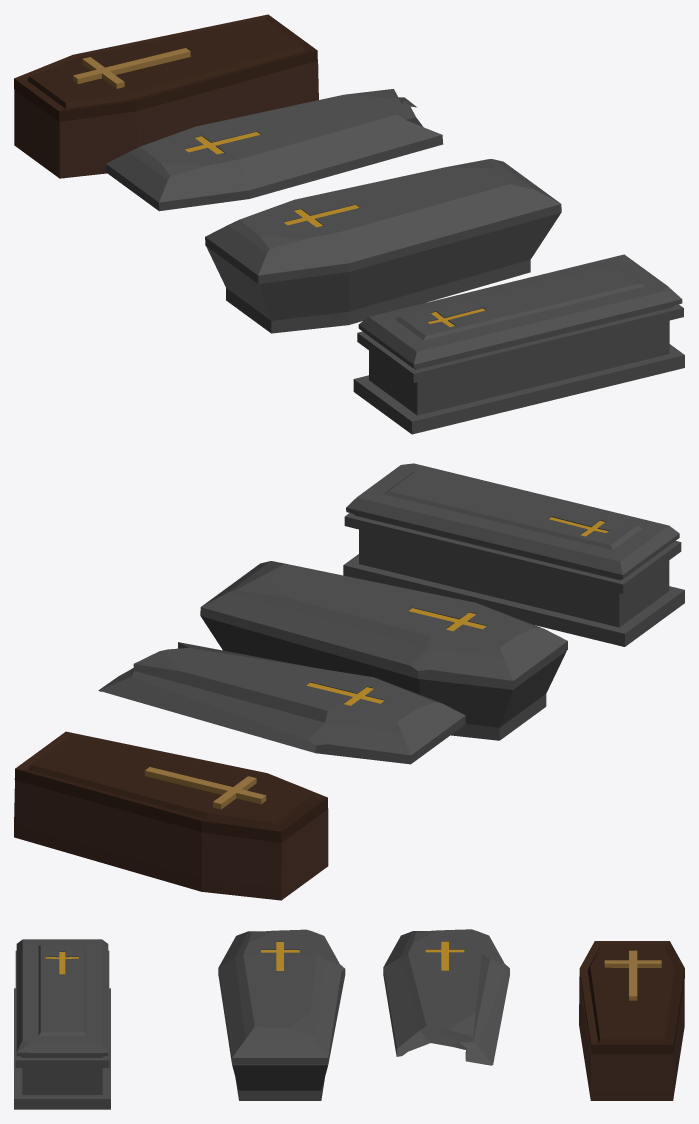
File: CoffinsCollection.fbx
3 views of the same model, one above another, from view 1: azimuth 30°, elevation 25°; view 2: azimuth 150°, elevation 25°; view 3: azimuth 270°, elevation 25° (orthographic). The views are drawn at different scales.
Visible parts, largest first — view 1: CoffinTop_v2, CofinTop_v2_cracked, CoffinTop_v1, CoffinTop_v3, CoffinBot_v2, CoffinBot_v1, CoffinBot_v3; view 2: CoffinTop_v2, CofinTop_v2_cracked, CoffinTop_v1, CoffinTop_v3, CoffinBot_v3, CoffinBot_v1, CoffinBot_v2; view 3: CoffinTop_v2, CofinTop_v2_cracked, CoffinTop_v1, CoffinTop_v3, CoffinBot_v3, CoffinBot_v1, CoffinBot_v2.
Part boxes in pixels (box(x1,y1,x2,y2)): CoffinTop_v2: box(205, 159, 561, 284); CofinTop_v2_cracked: box(106, 89, 443, 211); CoffinTop_v1: box(357, 254, 683, 382); CoffinTop_v3: box(14, 14, 317, 121); CoffinBot_v2: box(206, 213, 560, 333); CoffinBot_v1: box(353, 320, 684, 434); CoffinBot_v3: box(14, 61, 318, 178); CoffinTop_v2: box(200, 561, 567, 689); CofinTop_v2_cracked: box(98, 642, 465, 764); CoffinTop_v1: box(344, 463, 681, 593); CoffinTop_v3: box(14, 731, 327, 842); CoffinBot_v3: box(14, 780, 328, 900); CoffinBot_v1: box(343, 529, 684, 646); CoffinBot_v2: box(201, 616, 566, 740); CoffinTop_v2: box(218, 929, 345, 1065); CofinTop_v2_cracked: box(383, 929, 509, 1065); CoffinTop_v1: box(15, 939, 109, 1067); CoffinTop_v3: box(579, 941, 684, 1053); CoffinBot_v3: box(579, 977, 684, 1100); CoffinBot_v1: box(14, 988, 110, 1109); CoffinBot_v2: box(232, 1064, 327, 1100).
Size of the model in its own units: 659 by 1530 by 181.
